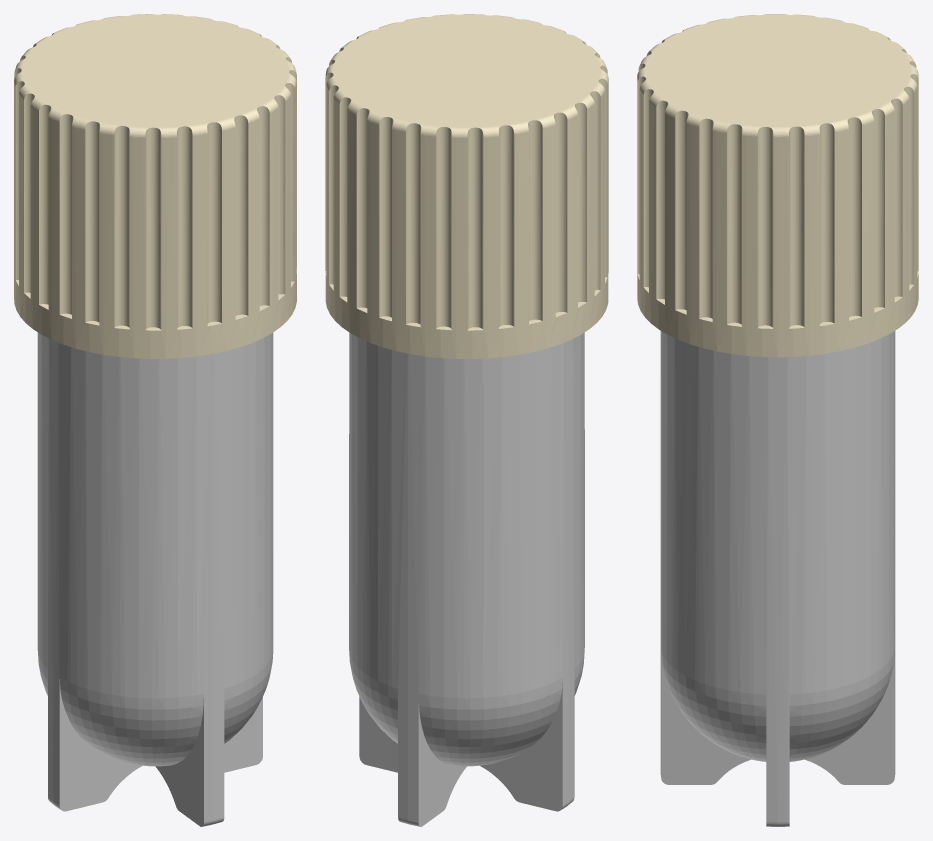
3 views of the same model, side by side, from view 1: azimuth 30°, elevation 25°; view 2: azimuth 150°, elevation 25°; view 3: azimuth 270°, elevation 25° (orthographic).
Visible parts, largest first — view 1: cryovial_1-8ml_body, cryovial_1-8ml_cap; view 2: cryovial_1-8ml_body, cryovial_1-8ml_cap; view 3: cryovial_1-8ml_body, cryovial_1-8ml_cap.
Part boxes in pixels (x1,y1,x2,y2): cryovial_1-8ml_body: [37, 332, 273, 826]; cryovial_1-8ml_cap: [14, 14, 296, 358]; cryovial_1-8ml_body: [349, 332, 584, 826]; cryovial_1-8ml_cap: [325, 14, 608, 358]; cryovial_1-8ml_body: [660, 331, 895, 826]; cryovial_1-8ml_cap: [637, 14, 918, 357].
Size of the model in its own units: 0.013 by 0.036 by 0.013.
